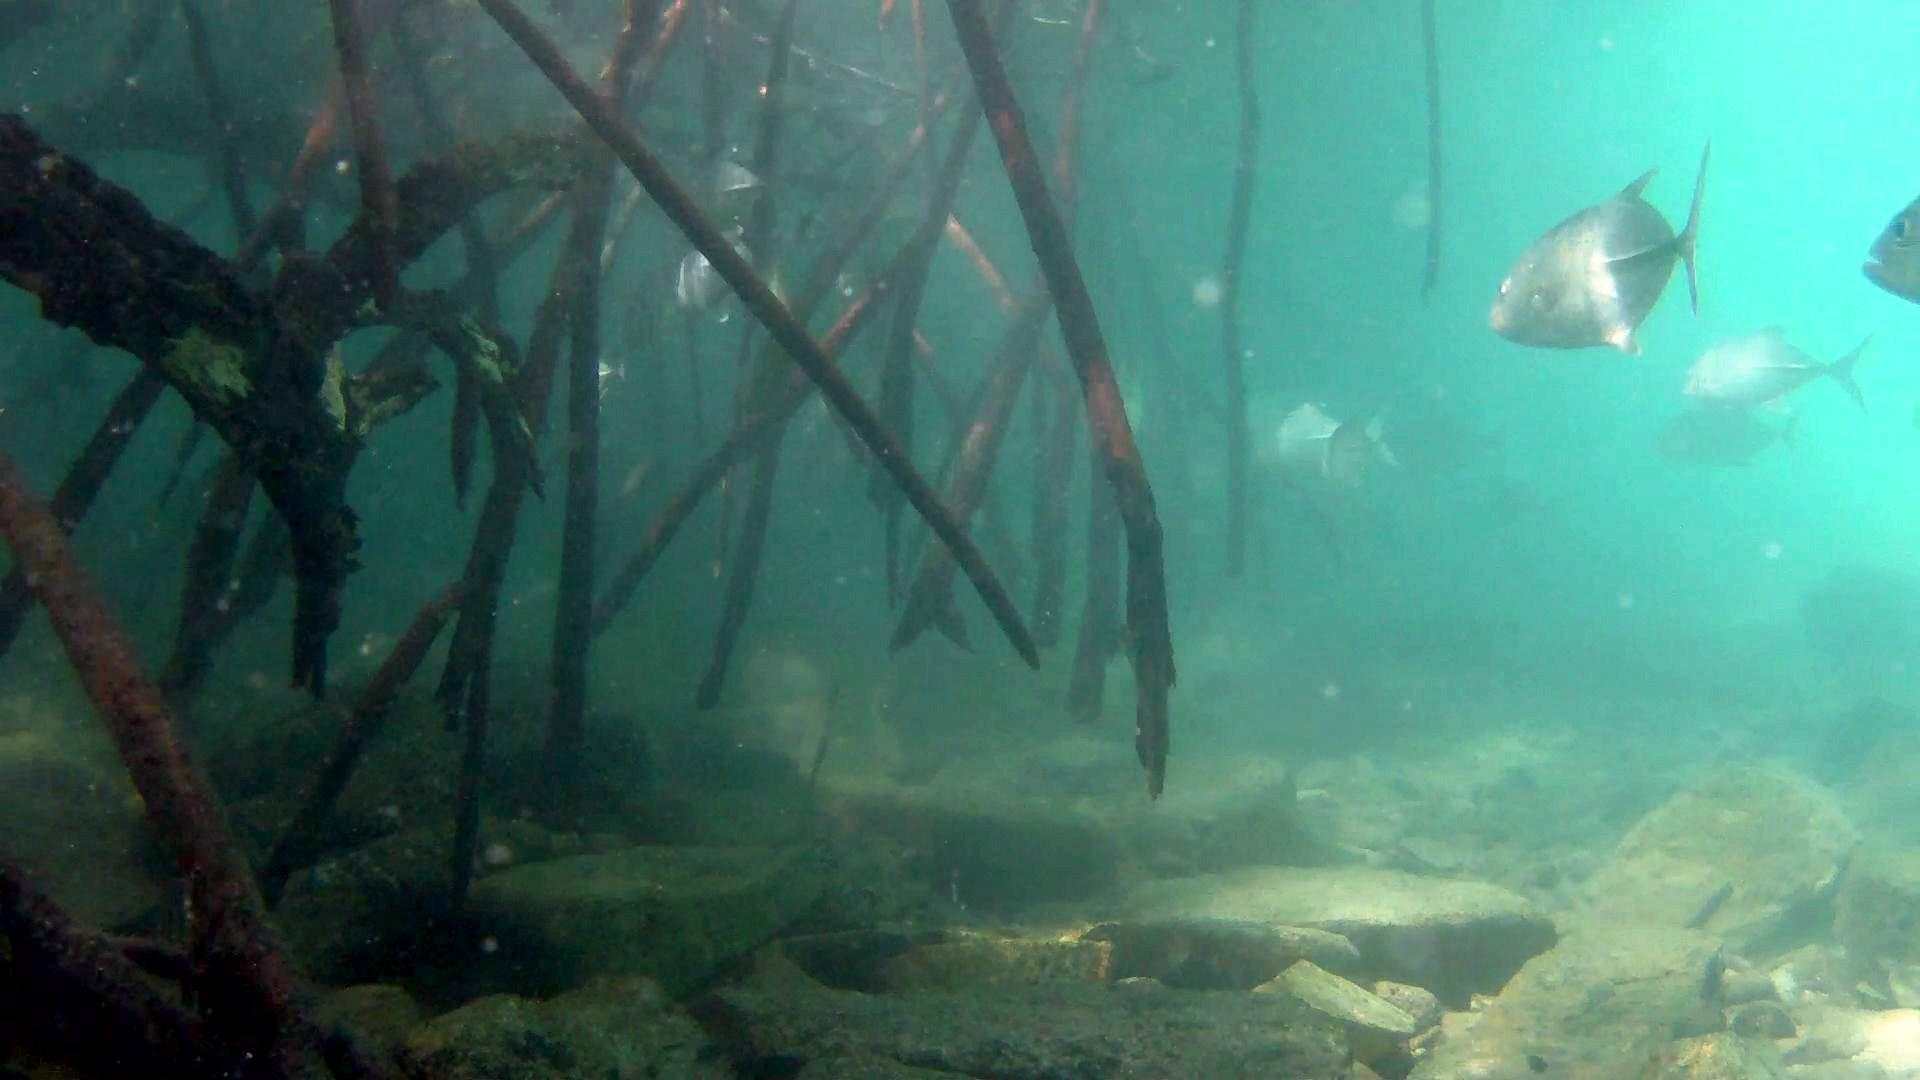caranx: (1478, 145, 1718, 363), (1846, 178, 1920, 316)
